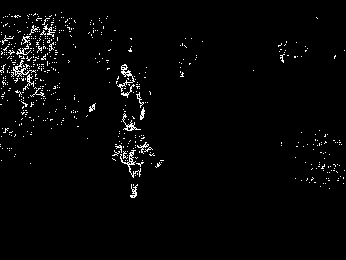person: (109, 114, 163, 201), (117, 63, 134, 109)
